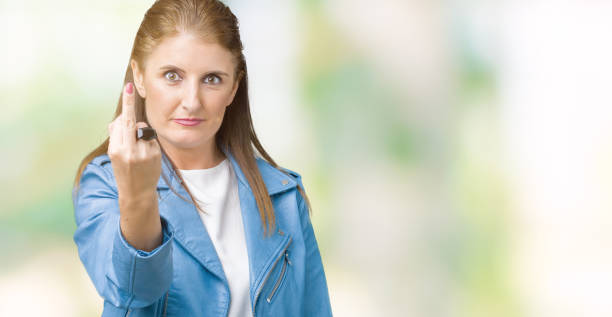insulting_gesture: (106, 80, 162, 190)
